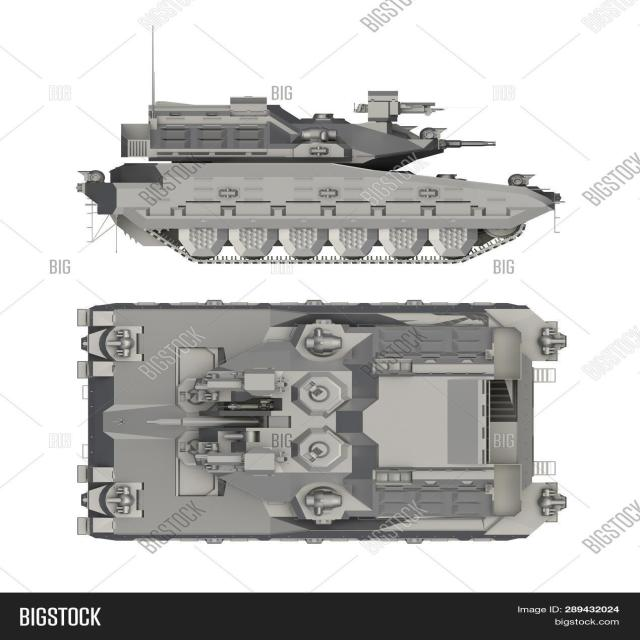Tanks: (76, 296, 570, 549), (75, 77, 562, 265)
